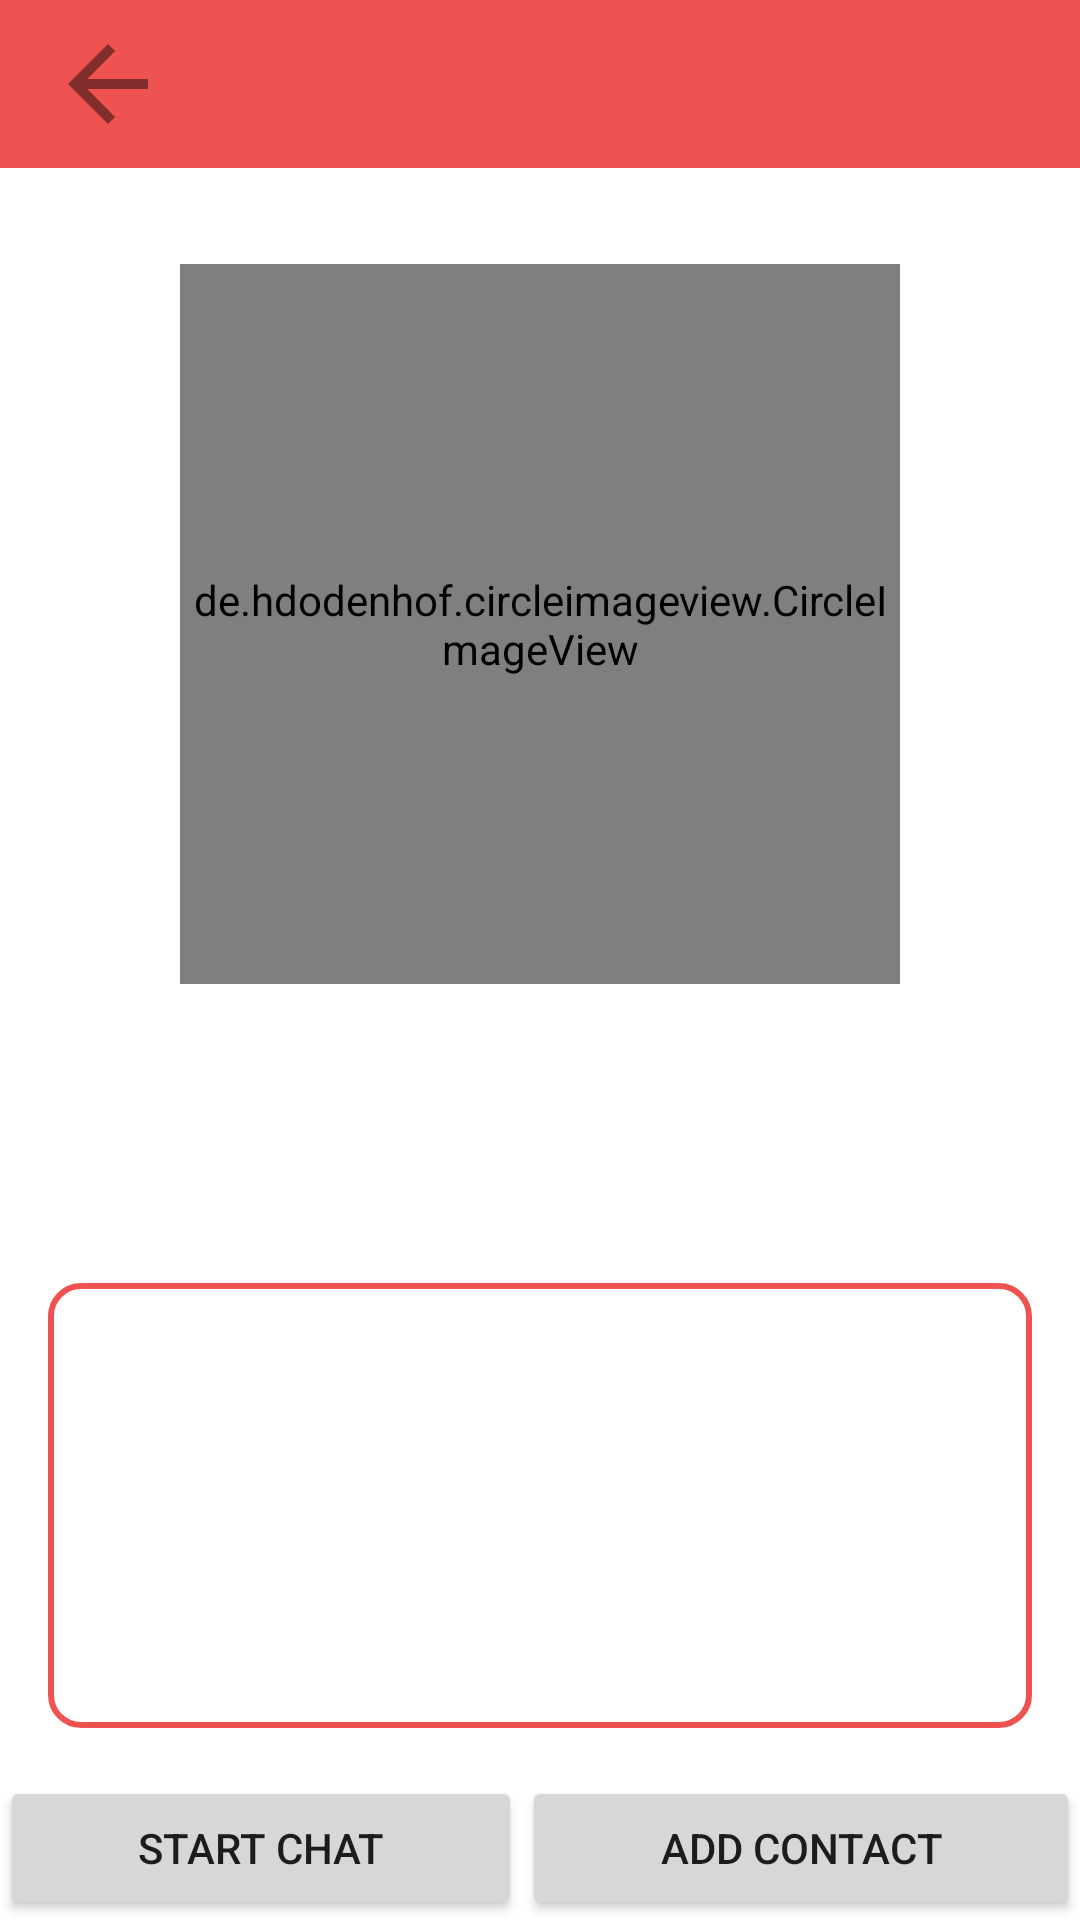

Screen size 1080 x 1920. Icon name, then its box in pixels as (x1,y1,x2,y2):
back arrow: (68,44,148,124)
